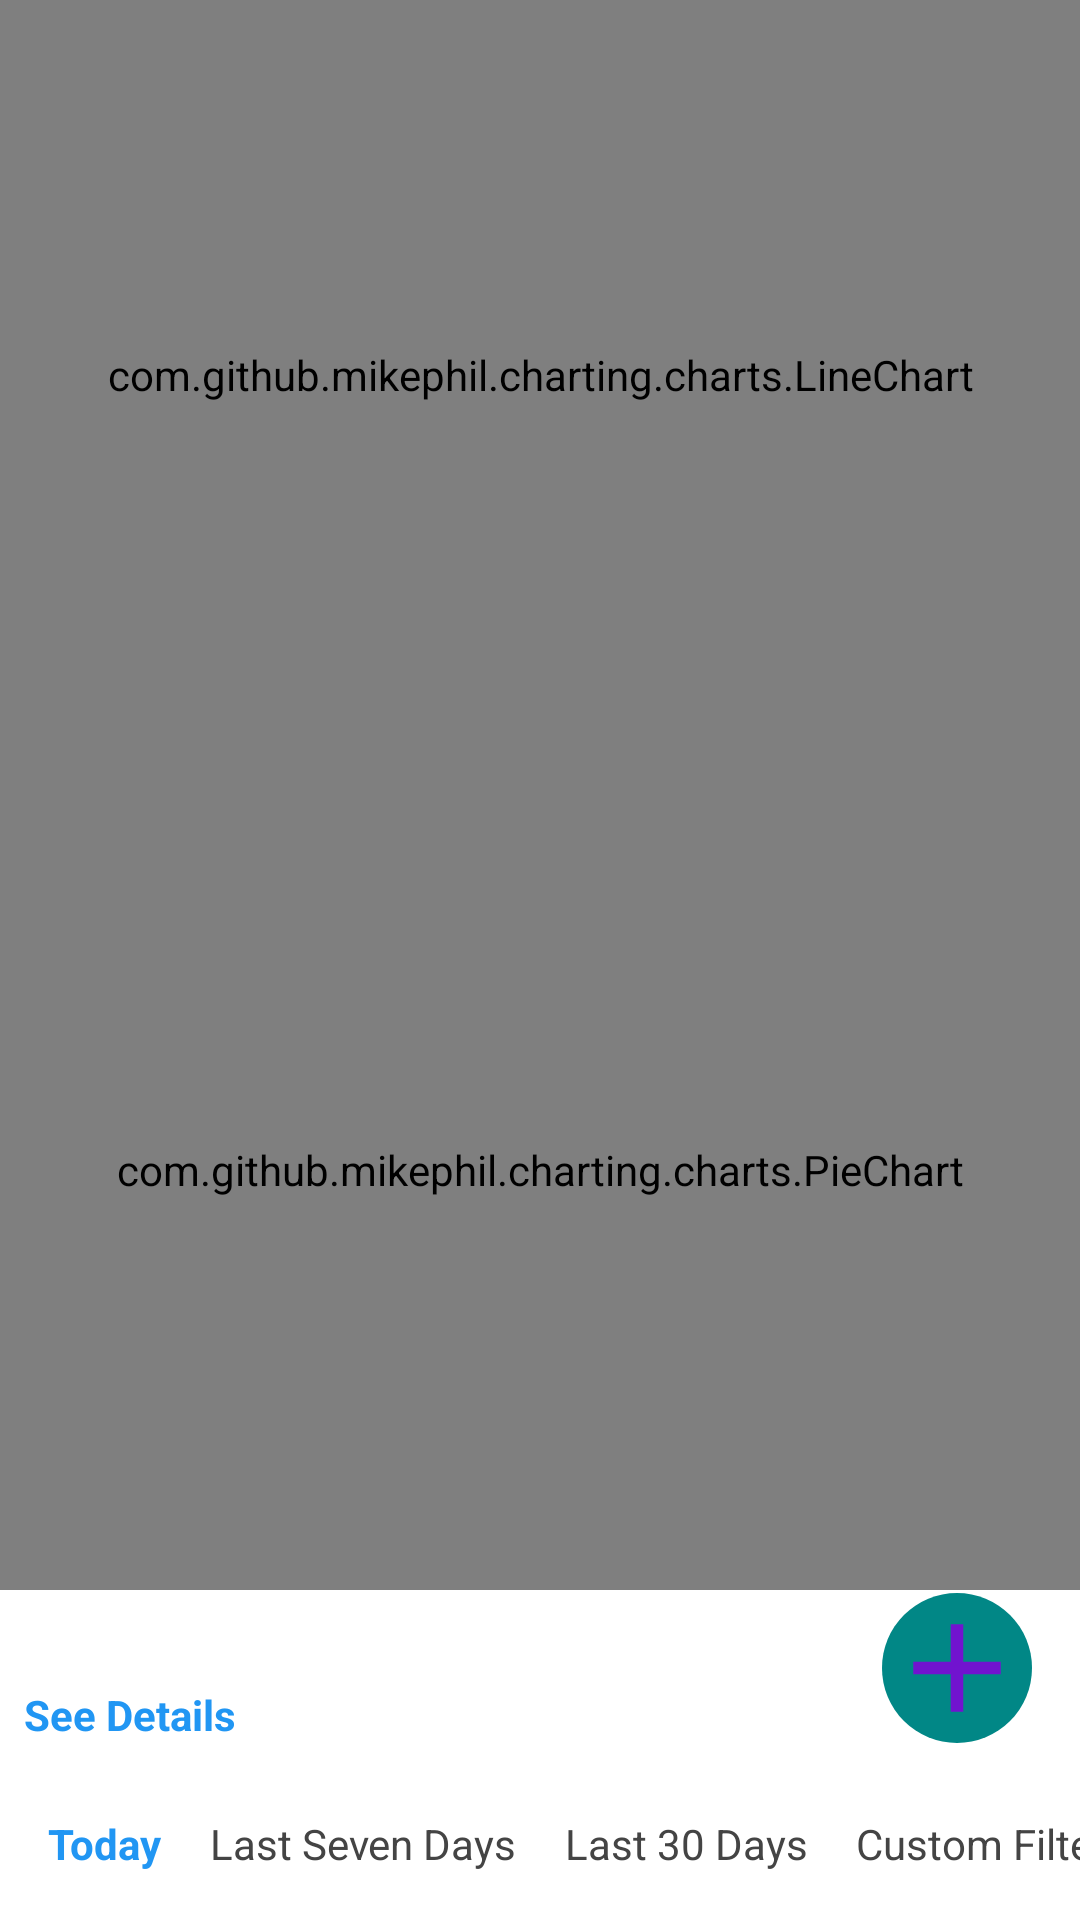

Locate icon controls on the screen. Image size 1080w x 1920h, boxes as bbox=[x1, y1, x2, y2].
add: bbox=[882, 1593, 1032, 1743]
